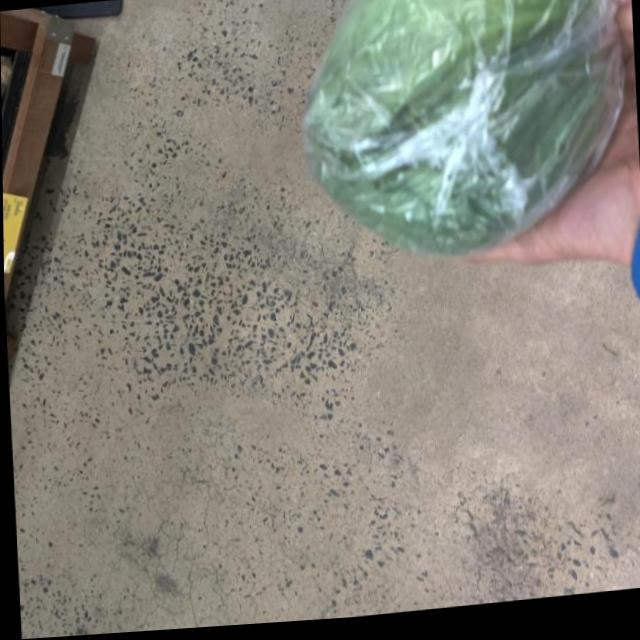Lettuce: (290, 0, 634, 276)
